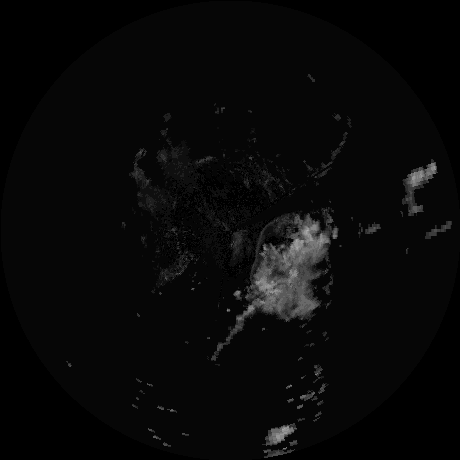frontgust: (249, 214, 288, 282)
